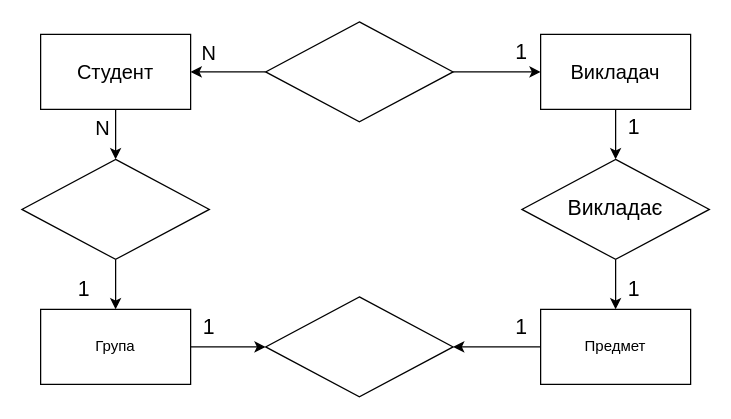
Image size: 731x419. Some labels were removed from this diagram. Here are the shapes that lost their labels. From the top down, the centre of each, then its label:
At point (358, 71): "Навчання".
At point (115, 208): "Входять".
At point (358, 346): "Вивчає".
